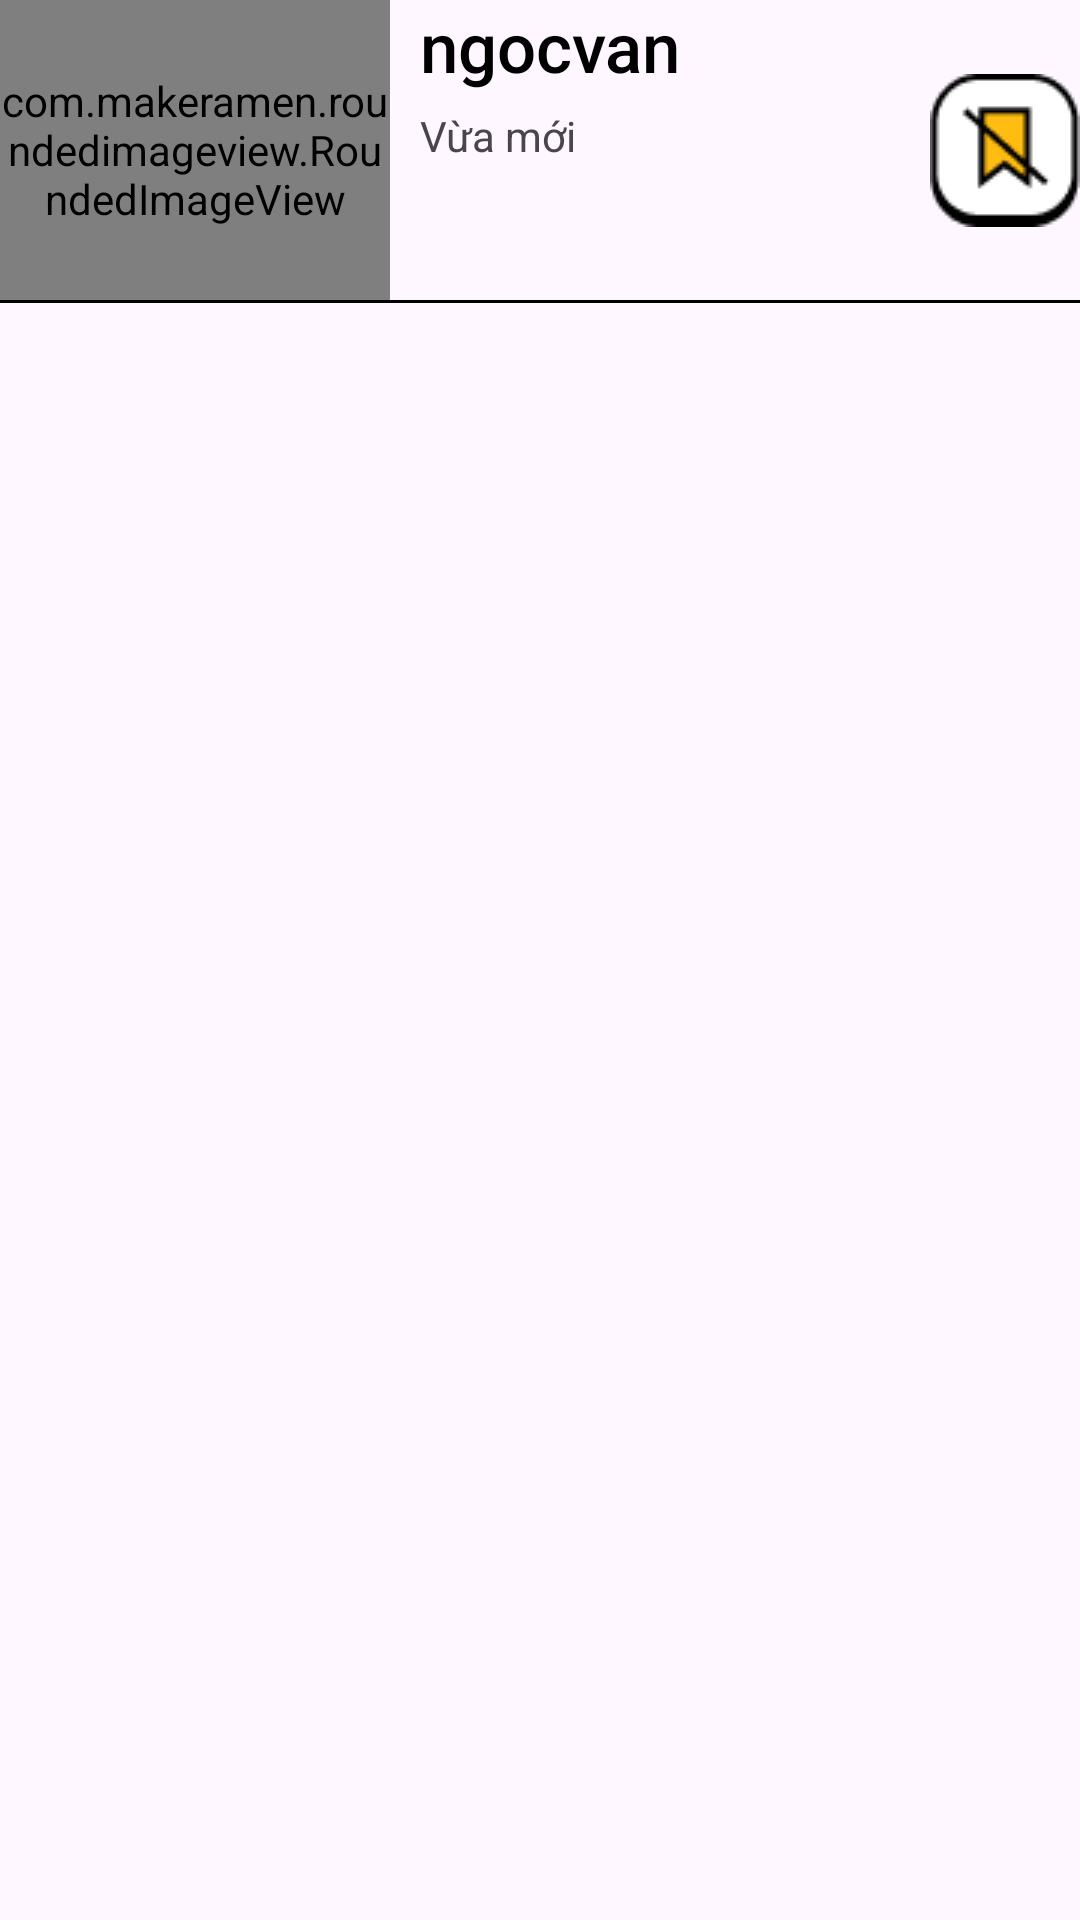

Named icons in this screenshot (1080*1920) and their bounding boxes, (x1, y1, x2, y2):
unsave: (930, 74, 1080, 227)
